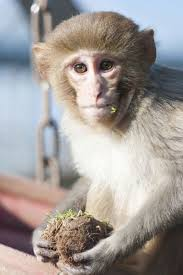monkey: (2, 3, 173, 274)
